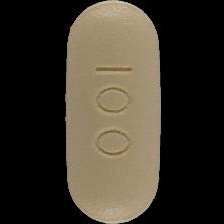50458-140: (0, 0, 224, 224)
